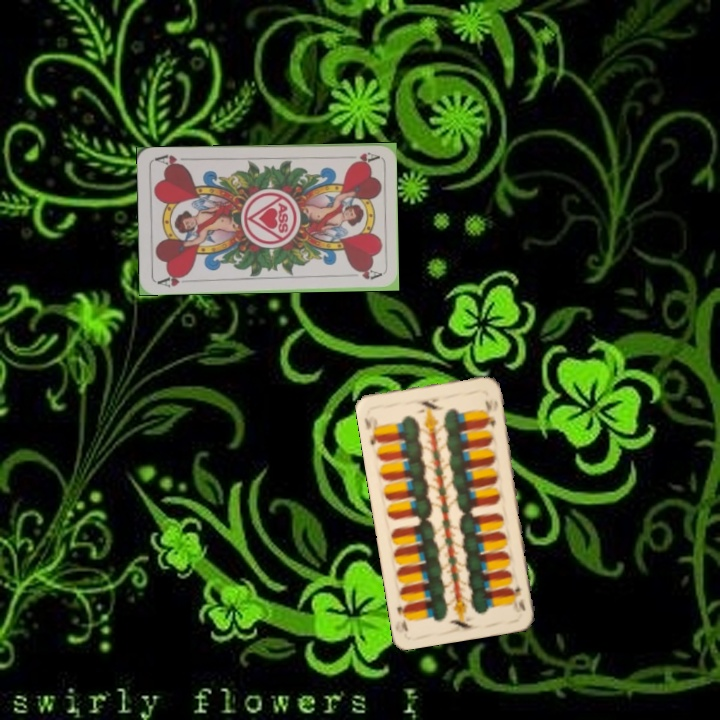E10: (360, 413, 384, 447), (510, 581, 528, 613)
HA: (154, 270, 194, 290), (340, 148, 380, 166)
